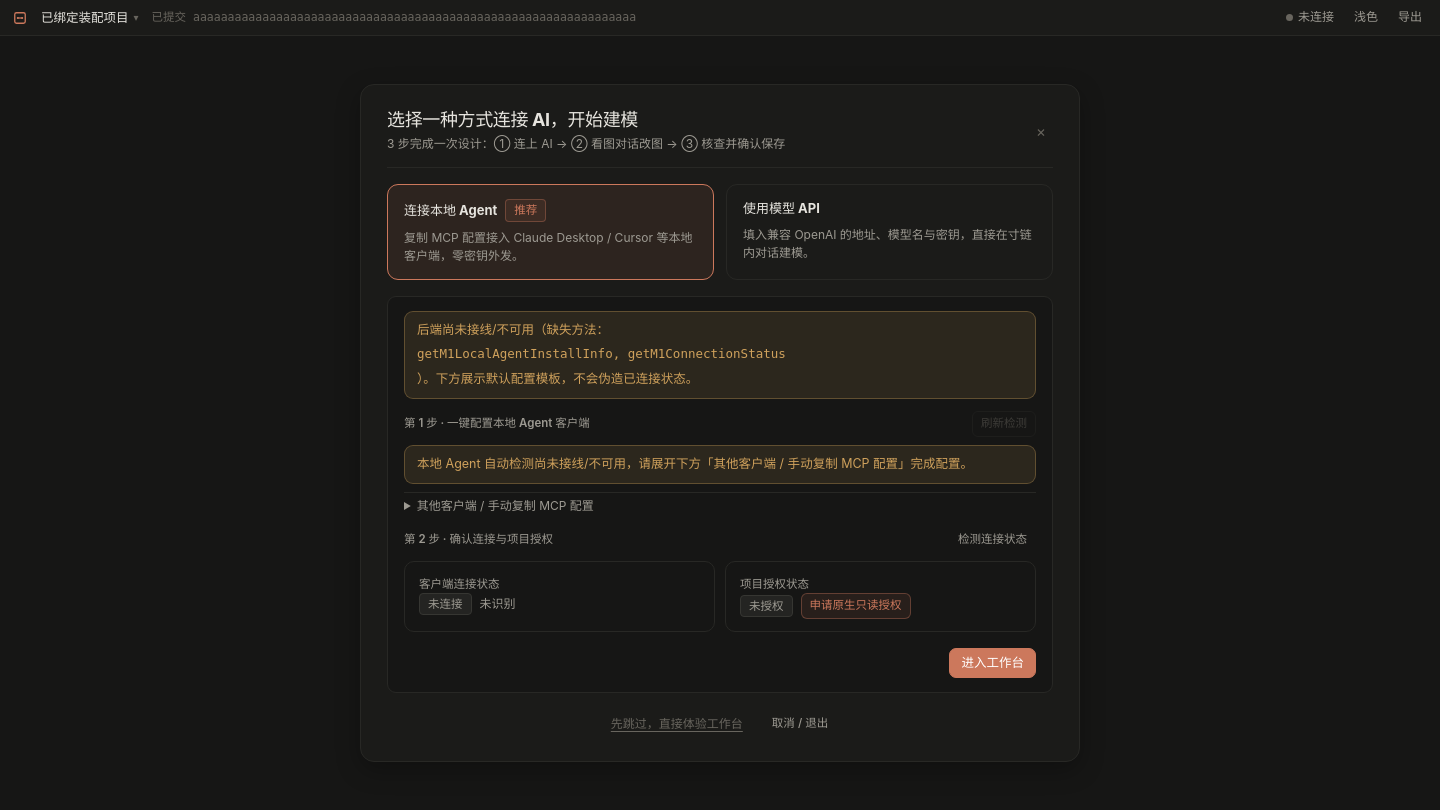
Test: DesktopAgentWorkspace：申请原生只读授权直接拉起回归测试 › 窗口已通过 reattachSession 绑定本地 .cunlian 文件时，点击「申请原生只读授权」直接拉起原生授权框而不重复弹文件选择
expect the heading "已绑定装配项目" is shown: met, box [41,10,128,25]
Click the button "申请原生只读授权": click(856, 606) [800,593,910,619]
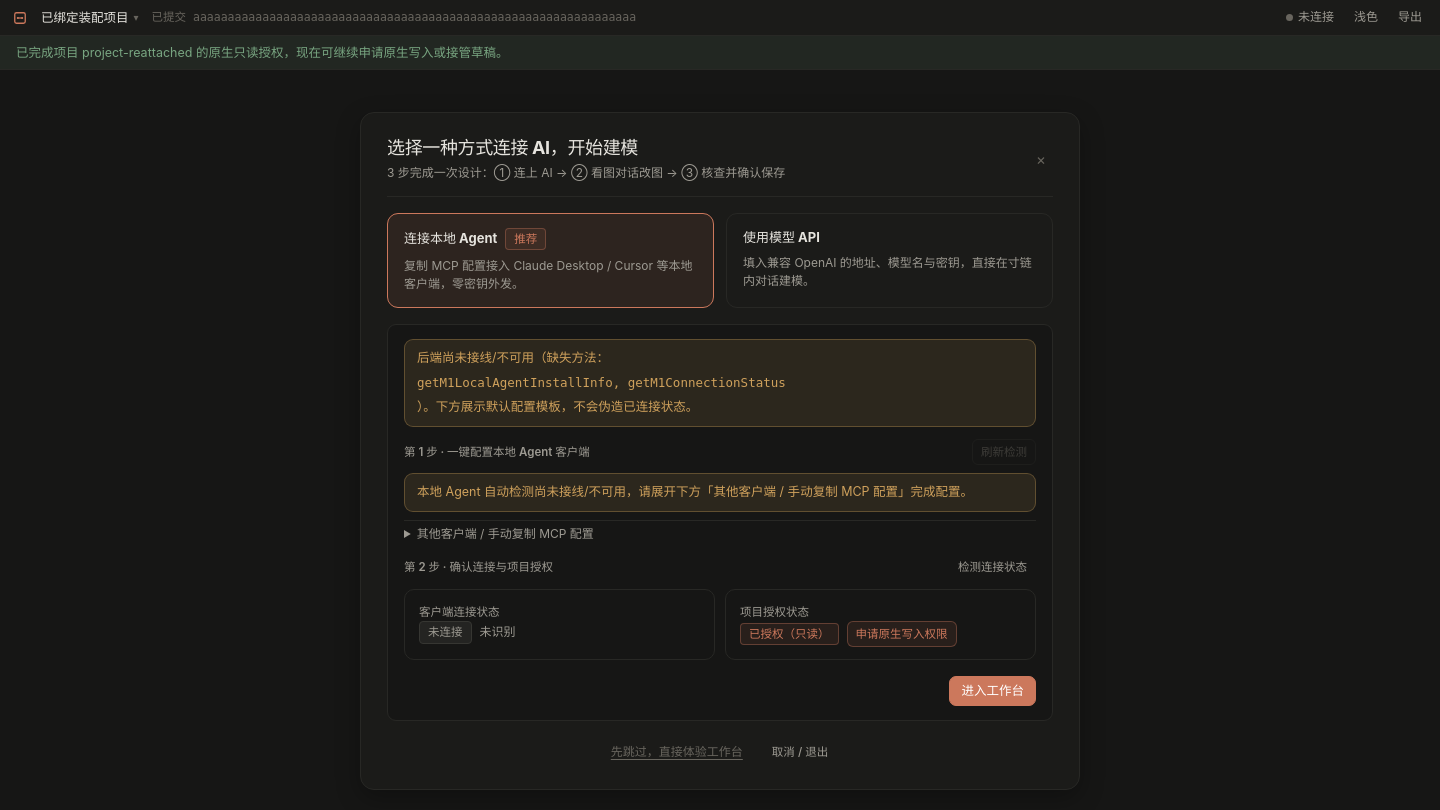
expect the text "已完成项目 project-reattached 的原生只读授权，现在可继续申请原生写入或接管草稿。" is shown: met, box [16,45,508,60]
